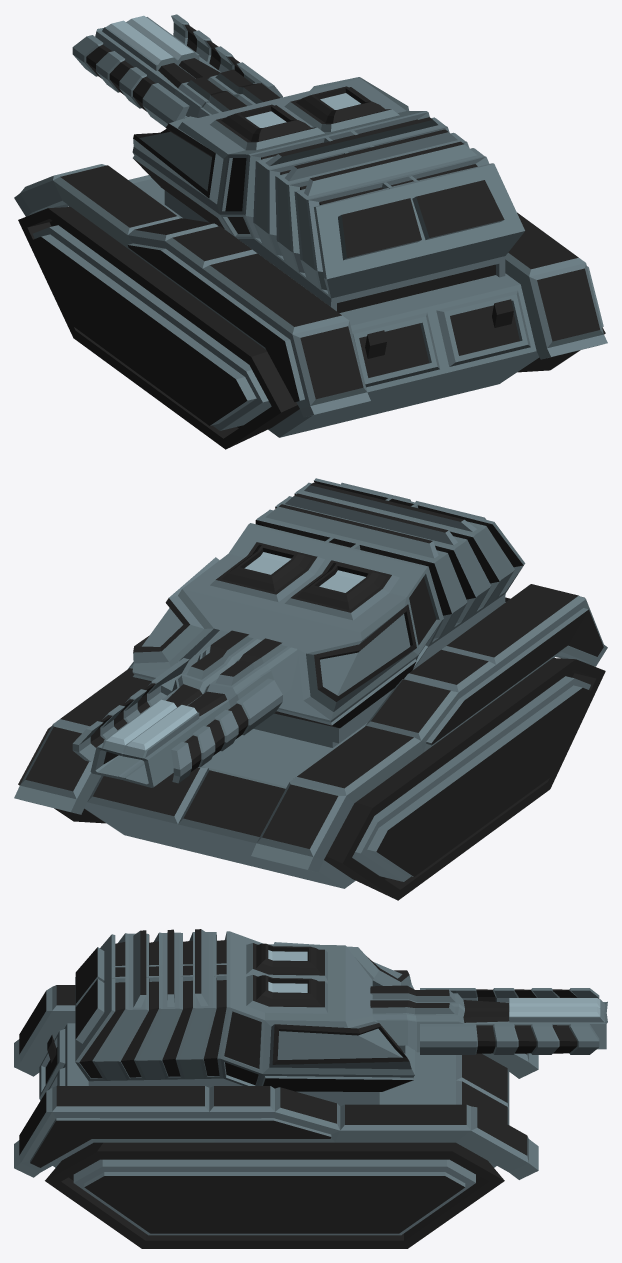
Rendered from Tank.glb.
The picture shows the model from 3 angles, top to bottom: view 1: azimuth 30°, elevation 25°; view 2: azimuth 150°, elevation 25°; view 3: azimuth 270°, elevation 25°; orthographic projection. The views are drawn at different scales.
Visible parts, largest first — view 1: Tank_Cube.013; view 2: Tank_Cube.013; view 3: Tank_Cube.013.
Part boxes in pixels (x1,y1,x2,y2): Tank_Cube.013: [14, 14, 607, 449]; Tank_Cube.013: [14, 478, 607, 900]; Tank_Cube.013: [14, 929, 607, 1248].
Bounding box in the file's own units: 3.82 × 2.63 × 6.49.
1 material, 1 textured.
